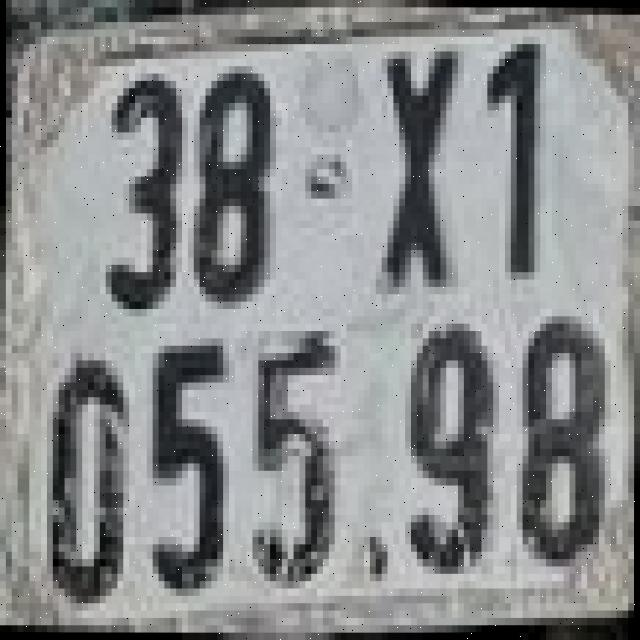0: (41, 350, 135, 600)
1: (481, 33, 552, 276)
3: (97, 70, 185, 313)
5: (250, 331, 344, 589), (144, 335, 232, 592)
8: (514, 309, 614, 566), (191, 58, 279, 302)
9: (399, 316, 499, 574)
X: (376, 44, 458, 287)
